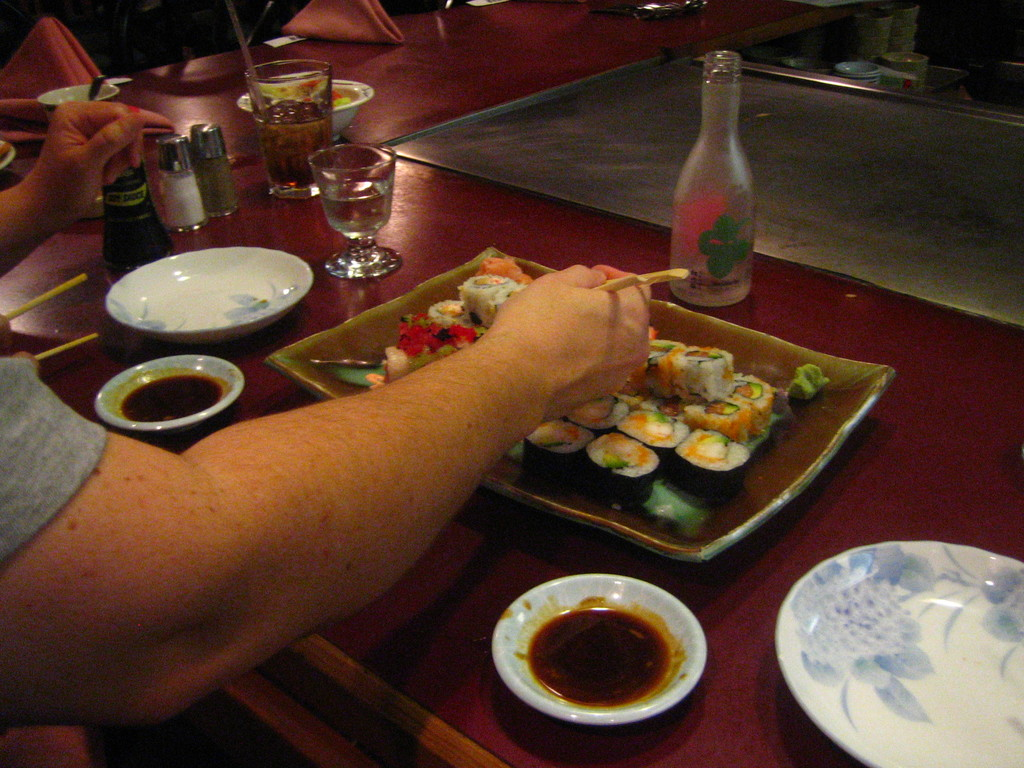plate: (110, 227, 302, 318)
